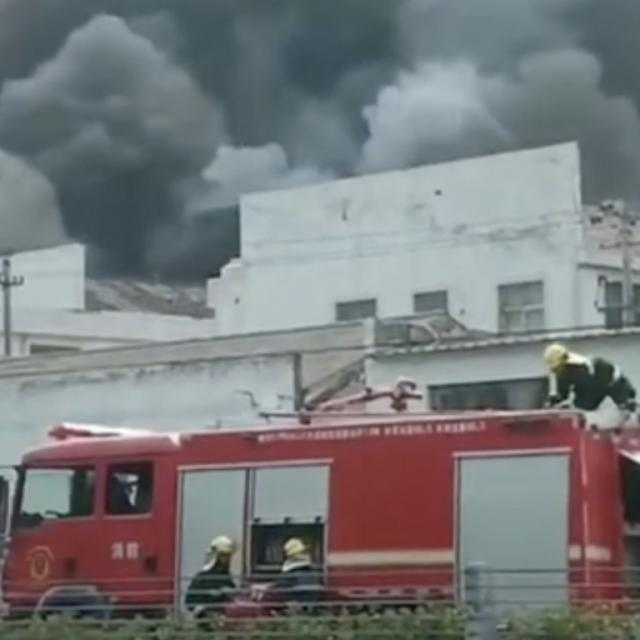Smoke: (0, 0, 312, 280), (316, 0, 640, 201)
